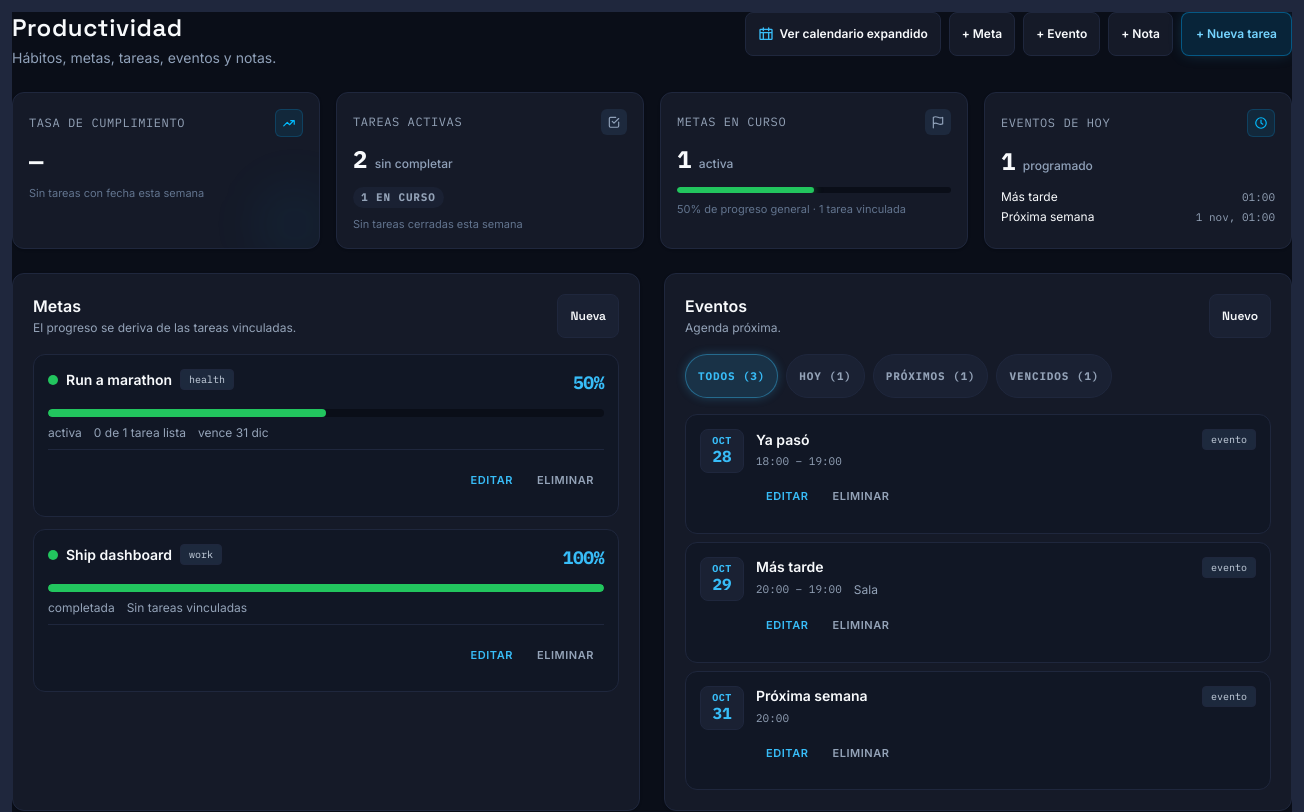
productivity content cards (T5b) › filters the events card by Hoy / Próximos / Vencidos with real counts
The image size is (1304, 812).
Check: the button "Próximos (1)" is shown, box [873, 354, 988, 398]
Check: the button "Vencidos (1)" is shown, box [996, 354, 1112, 398]
Click the button "Hoy (1)" at x=826, y=376, box [786, 354, 865, 398]
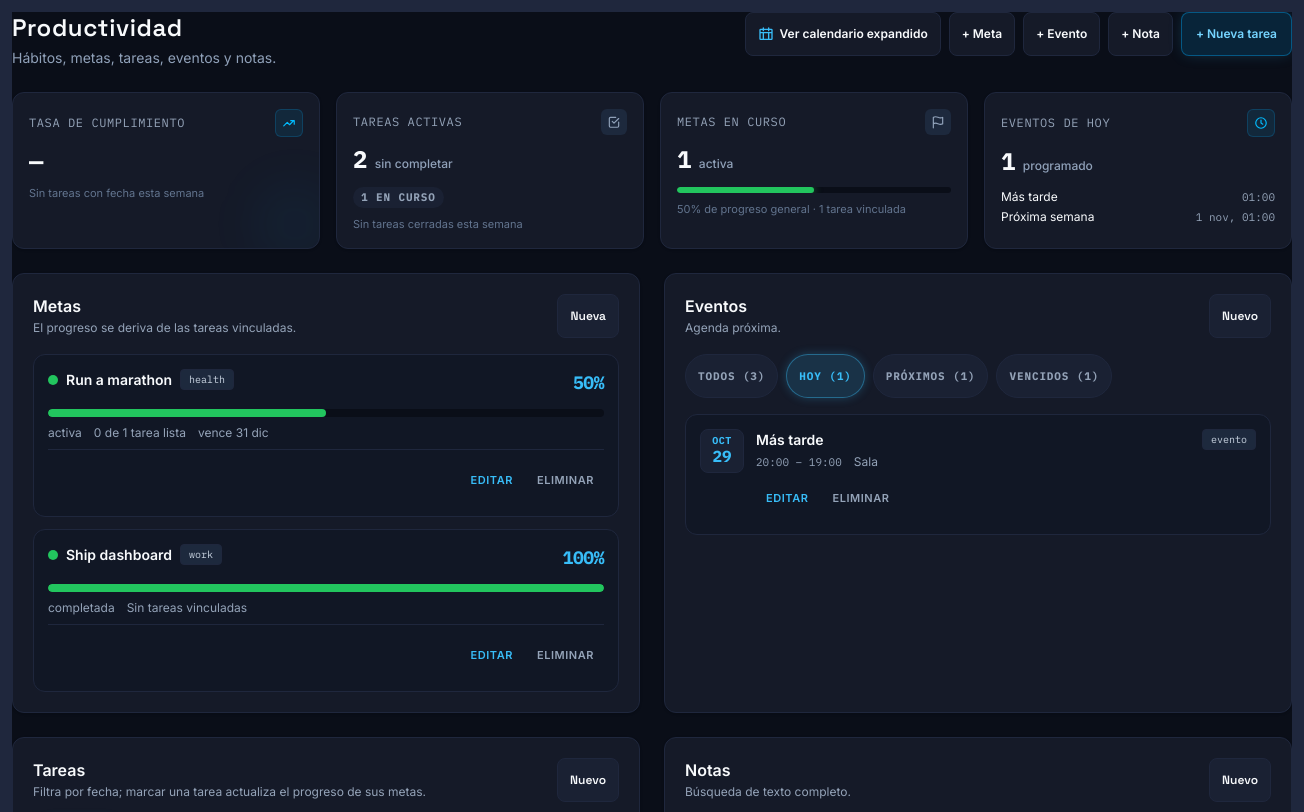
Check: the text "Más tarde" next to "OCT" is shown, box [756, 430, 824, 448]
Check: the text "Ya pasó" is gone
Click the button "Vencidos (1)" at x=1054, y=376, box [996, 354, 1112, 398]
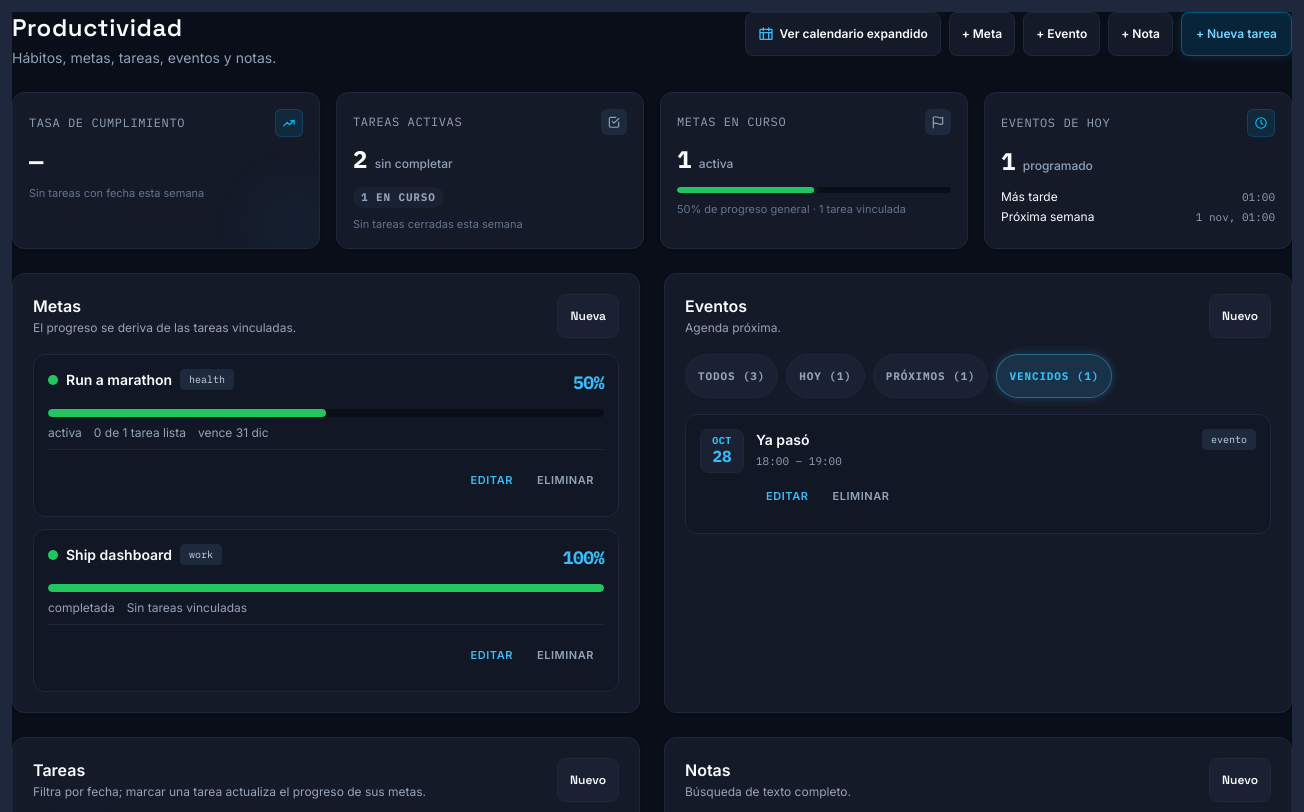
Check: the text "Ya pasó" is shown, box [756, 430, 809, 450]
Click the button "Próximos (1)" at x=931, y=376, box [873, 354, 988, 398]
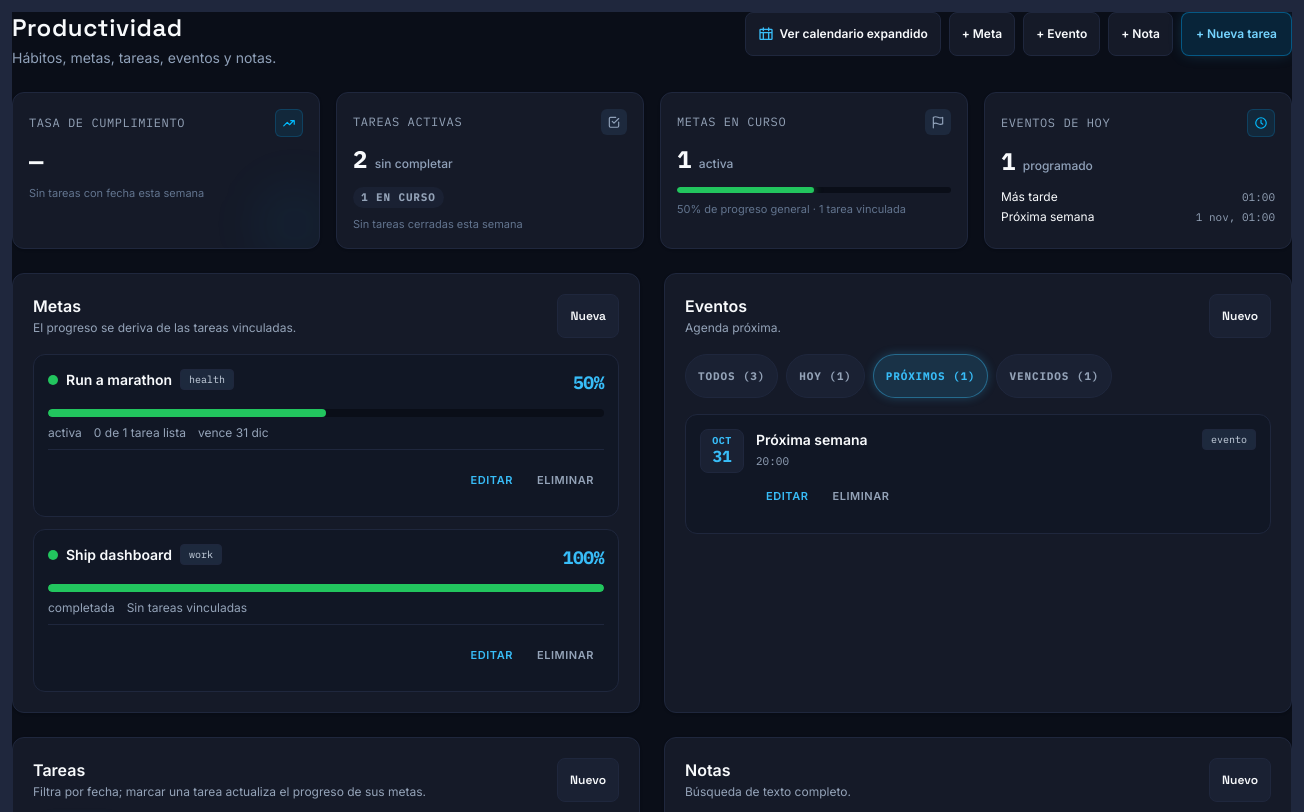
Check: the text "Próxima semana" next to "OCT" is shown, box [756, 430, 868, 448]
Check: the text "Ya pasó" is gone
